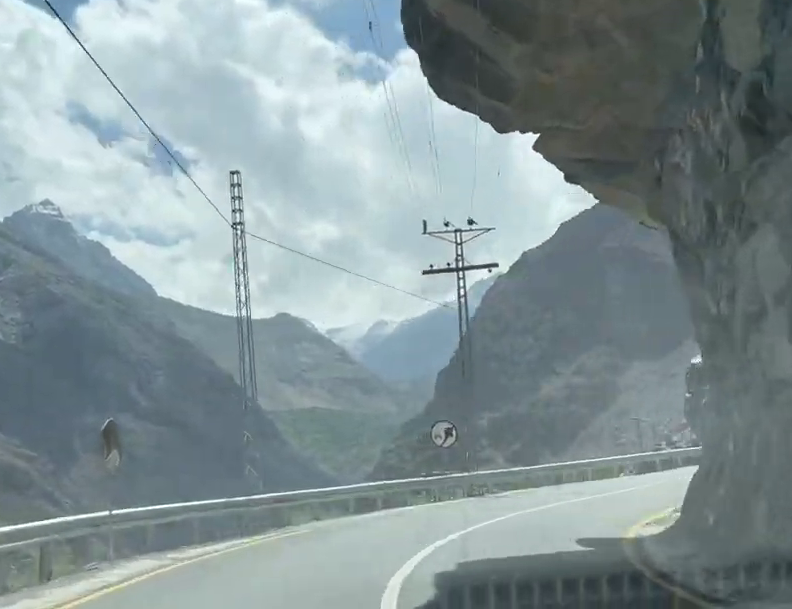stright: (326, 487, 732, 609)
